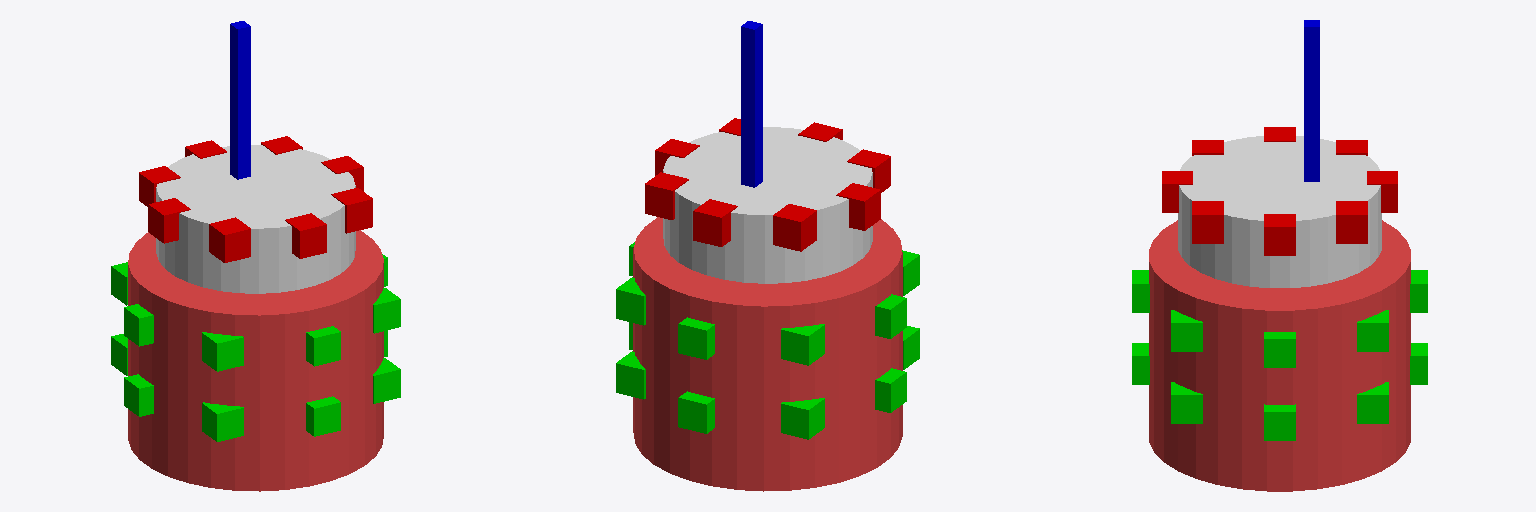
The robot description file, URDF, robot "random_bottle":
<?xml version="1.0"?>
<robot name="random_bottle">

  <!-- Define the cap link -->
  <link name="link1">
    <visual>
      <geometry>
        <mesh filename="cap.obj" scale="1.0 1.0 1.0"/>
      </geometry>
       <material name="white">
        <color rgba=".9 .9 .9 1"/>
      </material>

    </visual>
    <collision>
      <geometry>
        <mesh filename="cap.obj" scale="1.0 1.0 1.0"/>
      </geometry>
    </collision>

    <inertial>
      <mass value="0.016599749014023474"/> <!-- You can adjust the mass as needed -->
      <origin rpy="0 0 0" xyz="0 0 0"/>
      <inertia ixx="5.017801990812704e-06" ixy="0.0" ixz="0.0" iyy="5.017801990812704e-06" iyz="0.0" izz="8.554377145706497e-06"/>
    </inertial>
  </link>

    <link name="l10">
    <visual>
      <geometry>
        <box size="0.01 0.01 0.01"/>
      </geometry>

      <material name="red">
        <color rgba="0.9 0.0 0.0 1"/>
      </material>

    </visual>

    <inertial>
      <mass value="0.0001"/> <!-- You can adjust the mass as needed -->
      <origin rpy="0 0 0" xyz="0 0 -0.00"/> <!-- Offset by half of link1's height + 0.03m for the margin -->
      <inertia ixx="0.000000003" ixy="0.0" ixz="0.0" iyy="0.0000003" iyz="0.0" izz="0.00000003"/>
    </inertial>

  </link>
  <link name="l11">
    <visual>
      <geometry>
        <box size="0.01 0.01 0.01"/>
      </geometry>

      <material name="red">
        <color rgba="0.9 0.0 0.0 1"/>
      </material>

    </visual>

    <inertial>
      <mass value="0.0001"/> <!-- You can adjust the mass as needed -->
      <origin rpy="0 0 0" xyz="0 0 -0.00"/> <!-- Offset by half of link1's height + 0.03m for the margin -->
      <inertia ixx="0.000000003" ixy="0.0" ixz="0.0" iyy="0.0000003" iyz="0.0" izz="0.00000003"/>
    </inertial>

  </link>
  <link name="l12">
    <visual>
      <geometry>
        <box size="0.01 0.01 0.01"/>
      </geometry>

      <material name="red">
        <color rgba="0.9 0.0 0.0 1"/>
      </material>

    </visual>

    <inertial>
      <mass value="0.0001"/> <!-- You can adjust the mass as needed -->
      <origin rpy="0 0 0" xyz="0 0 -0.00"/> <!-- Offset by half of link1's height + 0.03m for the margin -->
      <inertia ixx="0.000000003" ixy="0.0" ixz="0.0" iyy="0.0000003" iyz="0.0" izz="0.00000003"/>
    </inertial>

  </link>
  <link name="l13">
    <visual>
      <geometry>
        <box size="0.01 0.01 0.01"/>
      </geometry>

      <material name="red">
        <color rgba="0.9 0.0 0.0 1"/>
      </material>

    </visual>

    <inertial>
      <mass value="0.0001"/> <!-- You can adjust the mass as needed -->
      <origin rpy="0 0 0" xyz="0 0 -0.00"/> <!-- Offset by half of link1's height + 0.03m for the margin -->
      <inertia ixx="0.000000003" ixy="0.0" ixz="0.0" iyy="0.0000003" iyz="0.0" izz="0.00000003"/>
    </inertial>

  </link>
  <link name="l10b">
    <visual>
      <geometry>
        <box size="0.01 0.01 0.01"/>
      </geometry>

      <material name="red">
        <color rgba="0.9 0.0 0.0 1"/>
      </material>

    </visual>

    <inertial>
      <mass value="0.0001"/> <!-- You can adjust the mass as needed -->
      <origin rpy="0 0 0" xyz="0 0 -0.00"/> <!-- Offset by half of link1's height + 0.03m for the margin -->
      <inertia ixx="0.000000003" ixy="0.0" ixz="0.0" iyy="0.0000003" iyz="0.0" izz="0.00000003"/>
    </inertial>

  </link>
  <link name="l11b">
    <visual>
      <geometry>
        <box size="0.01 0.01 0.01"/>
      </geometry>

      <material name="red">
        <color rgba="0.9 0.0 0.0 1"/>
      </material>

    </visual>

    <inertial>
      <mass value="0.0001"/> <!-- You can adjust the mass as needed -->
      <origin rpy="0 0 0" xyz="0 0 -0.00"/> <!-- Offset by half of link1's height + 0.03m for the margin -->
      <inertia ixx="0.000000003" ixy="0.0" ixz="0.0" iyy="0.0000003" iyz="0.0" izz="0.00000003"/>
    </inertial>

  </link>
  <link name="l12b">
    <visual>
      <geometry>
        <box size="0.01 0.01 0.01"/>
      </geometry>

      <material name="red">
        <color rgba="0.9 0.0 0.0 1"/>
      </material>

    </visual>

    <inertial>
      <mass value="0.0001"/> <!-- You can adjust the mass as needed -->
      <origin rpy="0 0 0" xyz="0 0 -0.00"/> <!-- Offset by half of link1's height + 0.03m for the margin -->
      <inertia ixx="0.000000003" ixy="0.0" ixz="0.0" iyy="0.0000003" iyz="0.0" izz="0.00000003"/>
    </inertial>

  </link>
  <link name="l13b">
    <visual>
      <geometry>
        <box size="0.01 0.01 0.01"/>
      </geometry>

      <material name="red">
        <color rgba="0.9 0.0 0.0 1"/>
      </material>

    </visual>

    <inertial>
      <mass value="0.0001"/> <!-- You can adjust the mass as needed -->
      <origin rpy="0 0 0" xyz="0 0 -0.00"/> <!-- Offset by half of link1's height + 0.03m for the margin -->
      <inertia ixx="0.000000003" ixy="0.0" ixz="0.0" iyy="0.0000003" iyz="0.0" izz="0.00000003"/>
    </inertial>

  </link>
  <link name="l20">
    <visual>
      <geometry>
        <box size="0.01 0.01 0.01"/>
      </geometry>

      <material name="red">
        <color rgba="0.0 0.9 0.0 1"/>
      </material>

    </visual>

    <inertial>
      <mass value="0.0001"/> <!-- You can adjust the mass as needed -->
      <origin rpy="0 0 0" xyz="0 0 -0.00"/> <!-- Offset by half of link1's height + 0.03m for the margin -->
      <inertia ixx="0.000000003" ixy="0.0" ixz="0.0" iyy="0.0000003" iyz="0.0" izz="0.00000003"/>
    </inertial>

  </link>
  <link name="l21">
    <visual>
      <geometry>
        <box size="0.01 0.01 0.01"/>
      </geometry>

      <material name="red">
        <color rgba="0.0 0.9 0.0 1"/>
      </material>

    </visual>

    <inertial>
      <mass value="0.0001"/> <!-- You can adjust the mass as needed -->
      <origin rpy="0 0 0" xyz="0 0 -0.00"/> <!-- Offset by half of link1's height + 0.03m for the margin -->
      <inertia ixx="0.000000003" ixy="0.0" ixz="0.0" iyy="0.0000003" iyz="0.0" izz="0.00000003"/>
    </inertial>

  </link>
  <link name="l22">
    <visual>
      <geometry>
        <box size="0.01 0.01 0.01"/>
      </geometry>

      <material name="red">
        <color rgba="0.0 0.9 0.0 1"/>
      </material>

    </visual>

    <inertial>
      <mass value="0.0001"/> <!-- You can adjust the mass as needed -->
      <origin rpy="0 0 0" xyz="0 0 -0.00"/> <!-- Offset by half of link1's height + 0.03m for the margin -->
      <inertia ixx="0.000000003" ixy="0.0" ixz="0.0" iyy="0.0000003" iyz="0.0" izz="0.00000003"/>
    </inertial>

  </link>
  <link name="l23">
    <visual>
      <geometry>
        <box size="0.01 0.01 0.01"/>
      </geometry>

      <material name="red">
        <color rgba="0.0 0.9 0.0 1"/>
      </material>

    </visual>

    <inertial>
      <mass value="0.0001"/> <!-- You can adjust the mass as needed -->
      <origin rpy="0 0 0" xyz="0 0 -0.00"/> <!-- Offset by half of link1's height + 0.03m for the margin -->
      <inertia ixx="0.000000003" ixy="0.0" ixz="0.0" iyy="0.0000003" iyz="0.0" izz="0.00000003"/>
    </inertial>

  </link>
  <link name="l24">
    <visual>
      <geometry>
        <box size="0.01 0.01 0.01"/>
      </geometry>

      <material name="red">
        <color rgba="0.0 0.9 0.0 1"/>
      </material>

    </visual>

    <inertial>
      <mass value="0.0001"/> <!-- You can adjust the mass as needed -->
      <origin rpy="0 0 0" xyz="0 0 -0.00"/> <!-- Offset by half of link1's height + 0.03m for the margin -->
      <inertia ixx="0.000000003" ixy="0.0" ixz="0.0" iyy="0.0000003" iyz="0.0" izz="0.00000003"/>
    </inertial>

  </link>
  <link name="l25">
    <visual>
      <geometry>
        <box size="0.01 0.01 0.01"/>
      </geometry>

      <material name="red">
        <color rgba="0.0 0.9 0.0 1"/>
      </material>

    </visual>

    <inertial>
      <mass value="0.0001"/> <!-- You can adjust the mass as needed -->
      <origin rpy="0 0 0" xyz="0 0 -0.00"/> <!-- Offset by half of link1's height + 0.03m for the margin -->
      <inertia ixx="0.000000003" ixy="0.0" ixz="0.0" iyy="0.0000003" iyz="0.0" izz="0.00000003"/>
    </inertial>

  </link>
  <link name="l26">
    <visual>
      <geometry>
        <box size="0.01 0.01 0.01"/>
      </geometry>

      <material name="red">
        <color rgba="0.0 0.9 0.0 1"/>
      </material>

    </visual>

    <inertial>
      <mass value="0.0001"/> <!-- You can adjust the mass as needed -->
      <origin rpy="0 0 0" xyz="0 0 -0.00"/> <!-- Offset by half of link1's height + 0.03m for the margin -->
      <inertia ixx="0.000000003" ixy="0.0" ixz="0.0" iyy="0.0000003" iyz="0.0" izz="0.00000003"/>
    </inertial>

  </link>
  <link name="l27">
    <visual>
      <geometry>
        <box size="0.01 0.01 0.01"/>
      </geometry>

      <material name="red">
        <color rgba="0.0 0.9 0.0 1"/>
      </material>

    </visual>

    <inertial>
      <mass value="0.0001"/> <!-- You can adjust the mass as needed -->
      <origin rpy="0 0 0" xyz="0 0 -0.00"/> <!-- Offset by half of link1's height + 0.03m for the margin -->
      <inertia ixx="0.000000003" ixy="0.0" ixz="0.0" iyy="0.0000003" iyz="0.0" izz="0.00000003"/>
    </inertial>

  </link>
  <link name="l30">
    <visual>
      <geometry>
        <box size="0.01 0.01 0.01"/>
      </geometry>

      <material name="red">
        <color rgba="0.0 0.9 0.0 1"/>
      </material>

    </visual>

    <inertial>
      <mass value="0.0001"/> <!-- You can adjust the mass as needed -->
      <origin rpy="0 0 0" xyz="0 0 -0.00"/> <!-- Offset by half of link1's height + 0.03m for the margin -->
      <inertia ixx="0.000000003" ixy="0.0" ixz="0.0" iyy="0.0000003" iyz="0.0" izz="0.00000003"/>
    </inertial>

  </link>
  <link name="l31">
    <visual>
      <geometry>
        <box size="0.01 0.01 0.01"/>
      </geometry>

      <material name="red">
        <color rgba="0.0 0.9 0.0 1"/>
      </material>

    </visual>

    <inertial>
      <mass value="0.0001"/> <!-- You can adjust the mass as needed -->
      <origin rpy="0 0 0" xyz="0 0 -0.00"/> <!-- Offset by half of link1's height + 0.03m for the margin -->
      <inertia ixx="0.000000003" ixy="0.0" ixz="0.0" iyy="0.0000003" iyz="0.0" izz="0.00000003"/>
    </inertial>

  </link>
  <link name="l32">
    <visual>
      <geometry>
        <box size="0.01 0.01 0.01"/>
      </geometry>

      <material name="red">
        <color rgba="0.0 0.9 0.0 1"/>
      </material>

    </visual>

    <inertial>
      <mass value="0.0001"/> <!-- You can adjust the mass as needed -->
      <origin rpy="0 0 0" xyz="0 0 -0.00"/> <!-- Offset by half of link1's height + 0.03m for the margin -->
      <inertia ixx="0.000000003" ixy="0.0" ixz="0.0" iyy="0.0000003" iyz="0.0" izz="0.00000003"/>
    </inertial>

  </link>
  <link name="l33">
    <visual>
      <geometry>
        <box size="0.01 0.01 0.01"/>
      </geometry>

      <material name="red">
        <color rgba="0.0 0.9 0.0 1"/>
      </material>

    </visual>

    <inertial>
      <mass value="0.0001"/> <!-- You can adjust the mass as needed -->
      <origin rpy="0 0 0" xyz="0 0 -0.00"/> <!-- Offset by half of link1's height + 0.03m for the margin -->
      <inertia ixx="0.000000003" ixy="0.0" ixz="0.0" iyy="0.0000003" iyz="0.0" izz="0.00000003"/>
    </inertial>

  </link>
  <link name="l34">
    <visual>
      <geometry>
        <box size="0.01 0.01 0.01"/>
      </geometry>

      <material name="red">
        <color rgba="0.0 0.9 0.0 1"/>
      </material>

    </visual>

    <inertial>
      <mass value="0.0001"/> <!-- You can adjust the mass as needed -->
      <origin rpy="0 0 0" xyz="0 0 -0.00"/> <!-- Offset by half of link1's height + 0.03m for the margin -->
      <inertia ixx="0.000000003" ixy="0.0" ixz="0.0" iyy="0.0000003" iyz="0.0" izz="0.00000003"/>
    </inertial>

  </link>
  <link name="l35">
    <visual>
      <geometry>
        <box size="0.01 0.01 0.01"/>
      </geometry>

      <material name="red">
        <color rgba="0.0 0.9 0.0 1"/>
      </material>

    </visual>

    <inertial>
      <mass value="0.0001"/> <!-- You can adjust the mass as needed -->
      <origin rpy="0 0 0" xyz="0 0 -0.00"/> <!-- Offset by half of link1's height + 0.03m for the margin -->
      <inertia ixx="0.000000003" ixy="0.0" ixz="0.0" iyy="0.0000003" iyz="0.0" izz="0.00000003"/>
    </inertial>

  </link>
  <link name="l36">
    <visual>
      <geometry>
        <box size="0.01 0.01 0.01"/>
      </geometry>

      <material name="red">
        <color rgba="0.0 0.9 0.0 1"/>
      </material>

    </visual>

    <inertial>
      <mass value="0.0001"/> <!-- You can adjust the mass as needed -->
      <origin rpy="0 0 0" xyz="0 0 -0.00"/> <!-- Offset by half of link1's height + 0.03m for the margin -->
      <inertia ixx="0.000000003" ixy="0.0" ixz="0.0" iyy="0.0000003" iyz="0.0" izz="0.00000003"/>
    </inertial>

  </link>
  <link name="l37">
    <visual>
      <geometry>
        <box size="0.01 0.01 0.01"/>
      </geometry>

      <material name="red">
        <color rgba="0.0 0.9 0.0 1"/>
      </material>

    </visual>

    <inertial>
      <mass value="0.0001"/> <!-- You can adjust the mass as needed -->
      <origin rpy="0 0 0" xyz="0 0 -0.00"/> <!-- Offset by half of link1's height + 0.03m for the margin -->
      <inertia ixx="0.000000003" ixy="0.0" ixz="0.0" iyy="0.0000003" iyz="0.0" izz="0.00000003"/>
    </inertial>

  </link>


  <link name="hint">
    <visual>
      <geometry>
        <box size="0.005 0.005 0.07"/> <!-- 9cm x 9cm x 6cm -->
      </geometry>
       <material name="blue">
        <color rgba=".0 .0 .9 1"/>
      </material>
    </visual>

    <inertial>
      <mass value="0.0001"/> <!-- You can adjust the mass as needed -->
      <origin rpy="0 0 0" xyz="0 0 -0.00"/> <!-- Offset by half of link1's height + 0.03m for the margin -->
      <inertia ixx="0.000000003" ixy="0.0" ixz="0.0" iyy="0.0000003" iyz="0.0" izz="0.00000003"/>
    </inertial>


  </link>

  <!-- Define the base link -->
  <link name="link2">
    <visual>
      <geometry>
        <mesh filename="base.obj" scale="1.0 1.0 1.0"/>
      </geometry>
      <material name="red">
        <color rgba=".9 .3 .3 1"/>
      </material>

    </visual>

    <collision>
      <geometry>
        <mesh filename="base.obj" scale="1.0 1.0 1.0"/>
      </geometry>
    </collision>

    <inertial>
      <mass value="0.04883159637059655"/> <!-- You can adjust the mass as needed -->
      <origin rpy="0 0 0" xyz="0 0 -0.00"/> <!-- Offset by half of link1's height + 0.03m for the margin -->
      <inertia ixx="3.668796225429575e-05" ixy="0.0" ixz="0.0" iyy="3.668796225429575e-05" iyz="0.0" izz="4.155326942577588e-05"/>
    </inertial>
  </link>



  <link name="brake">
   <visual>
      <geometry>
        <box size="0.02 0.02 0.005"/> <!-- 6cm x 6cm x 2cm -->
      </geometry>
       <material name="gray">
        <color rgba=".5 .5 .5 1"/>
      </material>

    </visual>
    <collision>
      <geometry>
        <box size="0.02 0.02 0.005"/> <!-- 6cm x 6cm x 2cm -->
      </geometry>
    </collision>

    <inertial>
      <mass value="0.005"/> <!-- You can adjust the mass as needed -->
      <origin rpy="0 0 0" xyz="0 0 0"/>
      <inertia ixx="0.00018" ixy="0.0" ixz="0.0" iyy="0.00018" iyz="0.0" izz="0.00018"/>
    </inertial>
  </link>

  <!-- Define the joint connecting link1 and link2 as a revolute joint along z-axis -->
  <joint name="fix_joint" type="fixed">
    <parent link="link1"/>
    <child link="hint"/>
    <origin rpy="0 0 0" xyz="0 0.01 0.03"/> <!-- Offset by half of link1's height for the margin -->
    <axis xyz="0 0 1"/>
  </joint>

  <!-- Define the joint connecting link1 and link2 as a revolute joint along z-axis -->
  <joint name="brake_joint" type="prismatic">
    <parent link="link2"/>
    <child link="brake"/>
    <origin rpy="0 0 0" xyz="0 0 0.05440387963068953"/> <!-- Offset by half of link1's height for the margin -->
    <axis xyz="0 0 1"/>
    <limit lower="-0.02" upper="0.02" />
    <!-- <dynamics damping="0.0" friction="0.0"/> -->
  </joint>


  <joint name="b_joint" type="revolute">
    <parent link="link2"/>
    <child link="link1"/>
    <origin rpy="0 0 0" xyz="0 0 0.046265355722980066"/> <!-- Offset by half of link1's height for the margin -->
    <axis xyz="0 0 1"/>
    <!-- No joint limits -->
    <dynamics damping="0.0" friction="0.0"/>
  </joint>


  <!-- marker -->
    <joint name="jl10" type="fixed">
    <parent link="link1"/>
    <child link="l10"/>
    <origin rpy="0 0 0" xyz="0.0 0.03210394729838386 0.00694155717231284"/> <!-- Offset by half of link1's height for the margin -->
    <axis xyz="0 0 1"/>
  </joint>
  <joint name="jl11" type="fixed">
    <parent link="link1"/>
    <child link="l11"/>
    <origin rpy="0 0 0" xyz="0.022700918533408384 0.022700919141677153 0.00694155717231284"/> <!-- Offset by half of link1's height for the margin -->
    <axis xyz="0 0 1"/>
  </joint>
  <joint name="jl12" type="fixed">
    <parent link="link1"/>
    <child link="l12"/>
    <origin rpy="0 0 0" xyz="0.032103947298383846 8.602219478314048e-10 0.00694155717231284"/> <!-- Offset by half of link1's height for the margin -->
    <axis xyz="0 0 1"/>
  </joint>
  <joint name="jl13" type="fixed">
    <parent link="link1"/>
    <child link="l13"/>
    <origin rpy="0 0 0" xyz="0.022700919749945904 -0.022700917925139594 0.00694155717231284"/> <!-- Offset by half of link1's height for the margin -->
    <axis xyz="0 0 1"/>
  </joint>
  <joint name="jl10b" type="fixed">
    <parent link="link1"/>
    <child link="l10b"/>
    <origin rpy="0 0 0" xyz="1.720443895662809e-09 -0.03210394729838381 0.00694155717231284"/> <!-- Offset by half of link1's height for the margin -->
    <axis xyz="0 0 1"/>
  </joint>
  <joint name="jl11b" type="fixed">
    <parent link="link1"/>
    <child link="l11b"/>
    <origin rpy="0 0 0" xyz="-0.022700917316870784 -0.022700920358214655 0.00694155717231284"/> <!-- Offset by half of link1's height for the margin -->
    <axis xyz="0 0 1"/>
  </joint>
  <joint name="jl12b" type="fixed">
    <parent link="link1"/>
    <child link="l12b"/>
    <origin rpy="0 0 0" xyz="-0.032103947298383756 -2.5806658292371957e-09 0.00694155717231284"/> <!-- Offset by half of link1's height for the margin -->
    <axis xyz="0 0 1"/>
  </joint>
  <joint name="jl13b" type="fixed">
    <parent link="link1"/>
    <child link="l13b"/>
    <origin rpy="0 0 0" xyz="-0.02270092096648337 0.02270091670860197 0.00694155717231284"/> <!-- Offset by half of link1's height for the margin -->
    <axis xyz="0 0 1"/>
  </joint>
  <joint name="jl20" type="fixed">
    <parent link="link2"/>
    <child link="l20"/>
    <origin rpy="0 0 0" xyz="0.0 0.04125410187239106 0.01875921343378804"/> <!-- Offset by half of link1's height for the margin -->
    <axis xyz="0 0 1"/>
  </joint>
  <joint name="jl21" type="fixed">
    <parent link="link2"/>
    <child link="l21"/>
    <origin rpy="0 0 0" xyz="0.02917105479491066 0.029171055576546062 0.01875921343378804"/> <!-- Offset by half of link1's height for the margin -->
    <axis xyz="0 0 1"/>
  </joint>
  <joint name="jl22" type="fixed">
    <parent link="link2"/>
    <child link="l22"/>
    <origin rpy="0 0 0" xyz="0.04125410187239104 1.1053993933789545e-09 0.01875921343378804"/> <!-- Offset by half of link1's height for the margin -->
    <axis xyz="0 0 1"/>
  </joint>
  <joint name="jl23" type="fixed">
    <parent link="link2"/>
    <child link="l23"/>
    <origin rpy="0 0 0" xyz="0.029171056358181444 -0.029171054013275233 0.01875921343378804"/> <!-- Offset by half of link1's height for the margin -->
    <axis xyz="0 0 1"/>
  </joint>
  <joint name="jl24" type="fixed">
    <parent link="link2"/>
    <child link="l24"/>
    <origin rpy="0 0 0" xyz="2.2107987867579082e-09 -0.041254101872390994 0.01875921343378804"/> <!-- Offset by half of link1's height for the margin -->
    <axis xyz="0 0 1"/>
  </joint>
  <joint name="jl25" type="fixed">
    <parent link="link2"/>
    <child link="l25"/>
    <origin rpy="0 0 0" xyz="-0.029171053231639776 -0.02917105713981682 0.01875921343378804"/> <!-- Offset by half of link1's height for the margin -->
    <axis xyz="0 0 1"/>
  </joint>
  <joint name="jl26" type="fixed">
    <parent link="link2"/>
    <child link="l26"/>
    <origin rpy="0 0 0" xyz="-0.041254101872390925 -3.3161981618163586e-09 0.01875921343378804"/> <!-- Offset by half of link1's height for the margin -->
    <axis xyz="0 0 1"/>
  </joint>
  <joint name="jl27" type="fixed">
    <parent link="link2"/>
    <child link="l27"/>
    <origin rpy="0 0 0" xyz="-0.02917105792145215 0.029171052450004318 0.01875921343378804"/> <!-- Offset by half of link1's height for the margin -->
    <axis xyz="0 0 1"/>
  </joint>
  <joint name="jl30" type="fixed">
    <parent link="link2"/>
    <child link="l30"/>
    <origin rpy="0 0 0" xyz="0.0 0.04125410187239106 -0.006253071144596014"/> <!-- Offset by half of link1's height for the margin -->
    <axis xyz="0 0 1"/>
  </joint>
  <joint name="jl31" type="fixed">
    <parent link="link2"/>
    <child link="l31"/>
    <origin rpy="0 0 0" xyz="0.02917105479491066 0.029171055576546062 -0.006253071144596014"/> <!-- Offset by half of link1's height for the margin -->
    <axis xyz="0 0 1"/>
  </joint>
  <joint name="jl32" type="fixed">
    <parent link="link2"/>
    <child link="l32"/>
    <origin rpy="0 0 0" xyz="0.04125410187239104 1.1053993933789545e-09 -0.006253071144596014"/> <!-- Offset by half of link1's height for the margin -->
    <axis xyz="0 0 1"/>
  </joint>
  <joint name="jl33" type="fixed">
    <parent link="link2"/>
    <child link="l33"/>
    <origin rpy="0 0 0" xyz="0.029171056358181444 -0.029171054013275233 -0.006253071144596014"/> <!-- Offset by half of link1's height for the margin -->
    <axis xyz="0 0 1"/>
  </joint>
  <joint name="jl34" type="fixed">
    <parent link="link2"/>
    <child link="l34"/>
    <origin rpy="0 0 0" xyz="2.2107987867579082e-09 -0.041254101872390994 -0.006253071144596014"/> <!-- Offset by half of link1's height for the margin -->
    <axis xyz="0 0 1"/>
  </joint>
  <joint name="jl35" type="fixed">
    <parent link="link2"/>
    <child link="l35"/>
    <origin rpy="0 0 0" xyz="-0.029171053231639776 -0.02917105713981682 -0.006253071144596014"/> <!-- Offset by half of link1's height for the margin -->
    <axis xyz="0 0 1"/>
  </joint>
  <joint name="jl36" type="fixed">
    <parent link="link2"/>
    <child link="l36"/>
    <origin rpy="0 0 0" xyz="-0.041254101872390925 -3.3161981618163586e-09 -0.006253071144596014"/> <!-- Offset by half of link1's height for the margin -->
    <axis xyz="0 0 1"/>
  </joint>
  <joint name="jl37" type="fixed">
    <parent link="link2"/>
    <child link="l37"/>
    <origin rpy="0 0 0" xyz="-0.02917105792145215 0.029171052450004318 -0.006253071144596014"/> <!-- Offset by half of link1's height for the margin -->
    <axis xyz="0 0 1"/>
  </joint>



</robot>

--- What the picture shows (computed from the rendered views, not written in the file) ---
Views: 3 orthographic renders of the robot side by side, from view 1: azimuth 30°, elevation 25°; view 2: azimuth 150°, elevation 25°; view 3: azimuth 270°, elevation 25°.
Model random_bottle with 28 links and 27 joints (1 revolute, 1 prismatic, 25 fixed), rooted at link2, posed every joint at zero.
Links seen in each view (by area): view 1: link2, link1, hint, l11b, l35, l25, l10b, l12b, l13, l34, l24, l36 (+7 smaller); view 2: link2, link1, hint, l13b, l10, l27, l37, l12b, l11, l20, l30, l36 (+8 smaller); view 3: link2, link1, hint, l11, l13, l12, l21, l23, l32, l22, l31, l33 (+6 smaller).
Link boxes in pixels (x1=…): link2: x1=128, y1=230, x2=383, y2=491; link1: x1=156, y1=145, x2=355, y2=293; hint: x1=230, y1=21, x2=250, y2=179; l11b: x1=209, y1=217, x2=250, y2=262; l35: x1=202, y1=402, x2=243, y2=441; l25: x1=202, y1=332, x2=243, y2=371; l10b: x1=285, y1=213, x2=326, y2=258; l12b: x1=148, y1=198, x2=190, y2=243; l13: x1=331, y1=188, x2=372, y2=233; l34: x1=306, y1=396, x2=340, y2=436; l24: x1=306, y1=326, x2=340, y2=366; l36: x1=124, y1=374, x2=153, y2=416; link2: x1=633, y1=217, x2=902, y2=491; link1: x1=663, y1=127, x2=872, y2=283; hint: x1=741, y1=21, x2=762, y2=187; l13b: x1=773, y1=204, x2=816, y2=251; l10: x1=693, y1=199, x2=737, y2=246; l27: x1=781, y1=324, x2=824, y2=365; l37: x1=781, y1=398, x2=824, y2=439; l12b: x1=836, y1=183, x2=880, y2=230; l11: x1=645, y1=172, x2=688, y2=219; l20: x1=678, y1=317, x2=714, y2=359; l30: x1=678, y1=391, x2=714, y2=433; l36: x1=875, y1=368, x2=906, y2=412; link2: x1=1149, y1=220, x2=1410, y2=491; link1: x1=1178, y1=136, x2=1381, y2=287; hint: x1=1304, y1=20, x2=1319, y2=181; l11: x1=1336, y1=201, x2=1367, y2=243; l13: x1=1192, y1=201, x2=1223, y2=243; l12: x1=1264, y1=214, x2=1295, y2=255; l21: x1=1357, y1=310, x2=1388, y2=351; l23: x1=1171, y1=310, x2=1202, y2=351; l32: x1=1264, y1=404, x2=1295, y2=440; l22: x1=1264, y1=332, x2=1295, y2=367; l31: x1=1357, y1=382, x2=1388, y2=423; l33: x1=1171, y1=382, x2=1202, y2=423.
Size in the robot's own frame: 0.0925 by 0.0925 by 0.1425 metres.
Meshes: 2 distinct files referenced, 2 mesh visuals loaded (2 OBJ).
